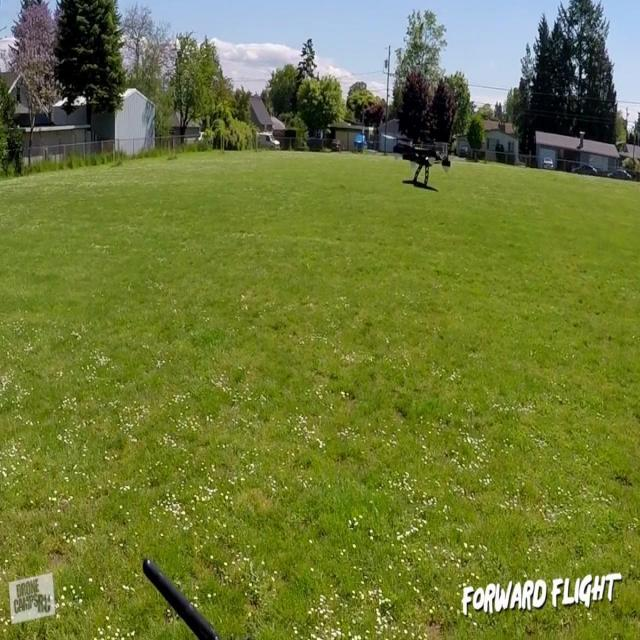UAV: (393, 139, 456, 192)
